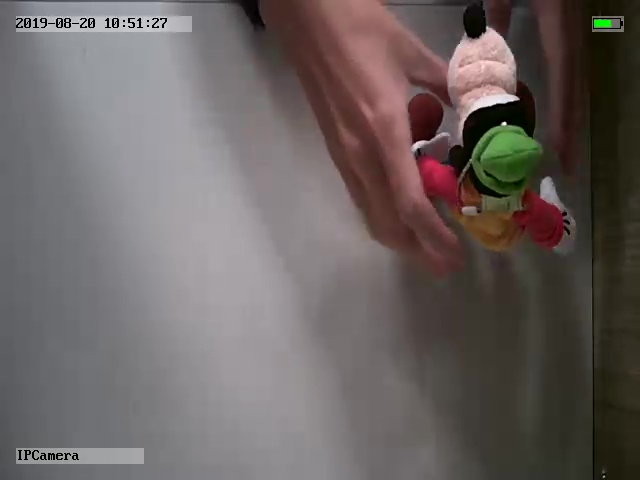goofy: (406, 5, 577, 256)
